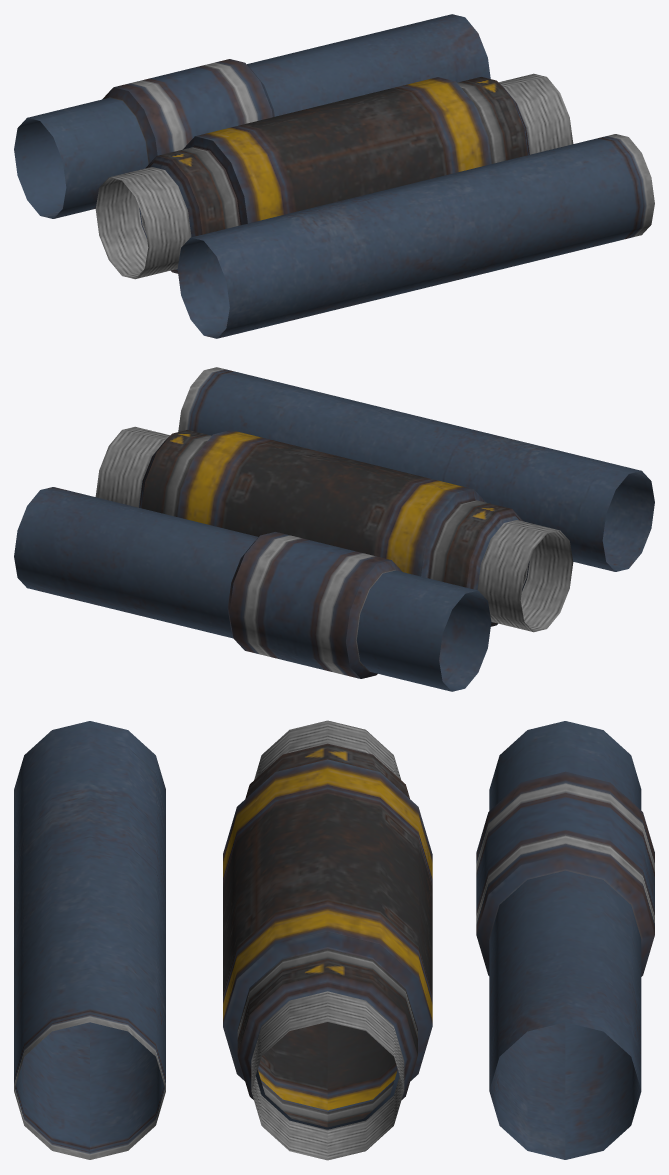
The model's file is PIpe3_Small_L0.fbx.
The picture shows the model from 3 angles, top to bottom: view 1: azimuth 30°, elevation 25°; view 2: azimuth 150°, elevation 25°; view 3: azimuth 270°, elevation 25°; orthographic projection. The views are drawn at different scales.
Visible parts, largest first — view 1: PIpe3_Small_L0; view 2: PIpe3_Small_L0; view 3: PIpe3_Small_L0.
Boxes of the visible parts, <box> form: PIpe3_Small_L0: <box>14,14,654,338</box>; PIpe3_Small_L0: <box>14,367,654,691</box>; PIpe3_Small_L0: <box>14,720,654,1160</box>.
Bounding box in the file's own units: 50 × 14.7 × 44.93.
